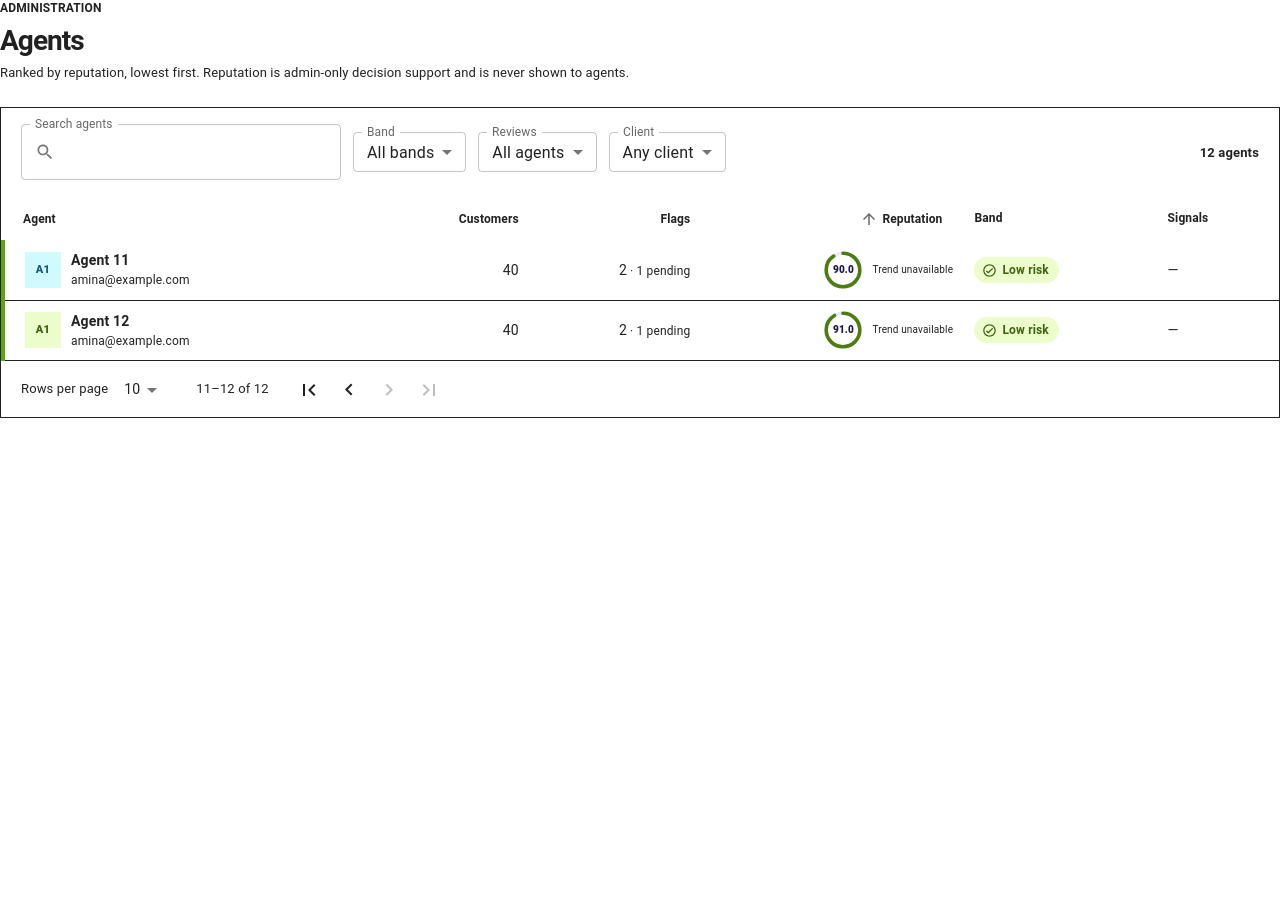
Test: agents ranking › pages through agents and keeps the page and size in the URL
Expected: the text "Agent 11" is shown, [71,252,129,268]
Expected: the text "11–12 of 12" is shown, [196,380,269,399]
What coordinates should you click on to do the following:
click the button named "Go to first page"
I would click on:
 (309, 390)
Its box is [289,370,329,410].
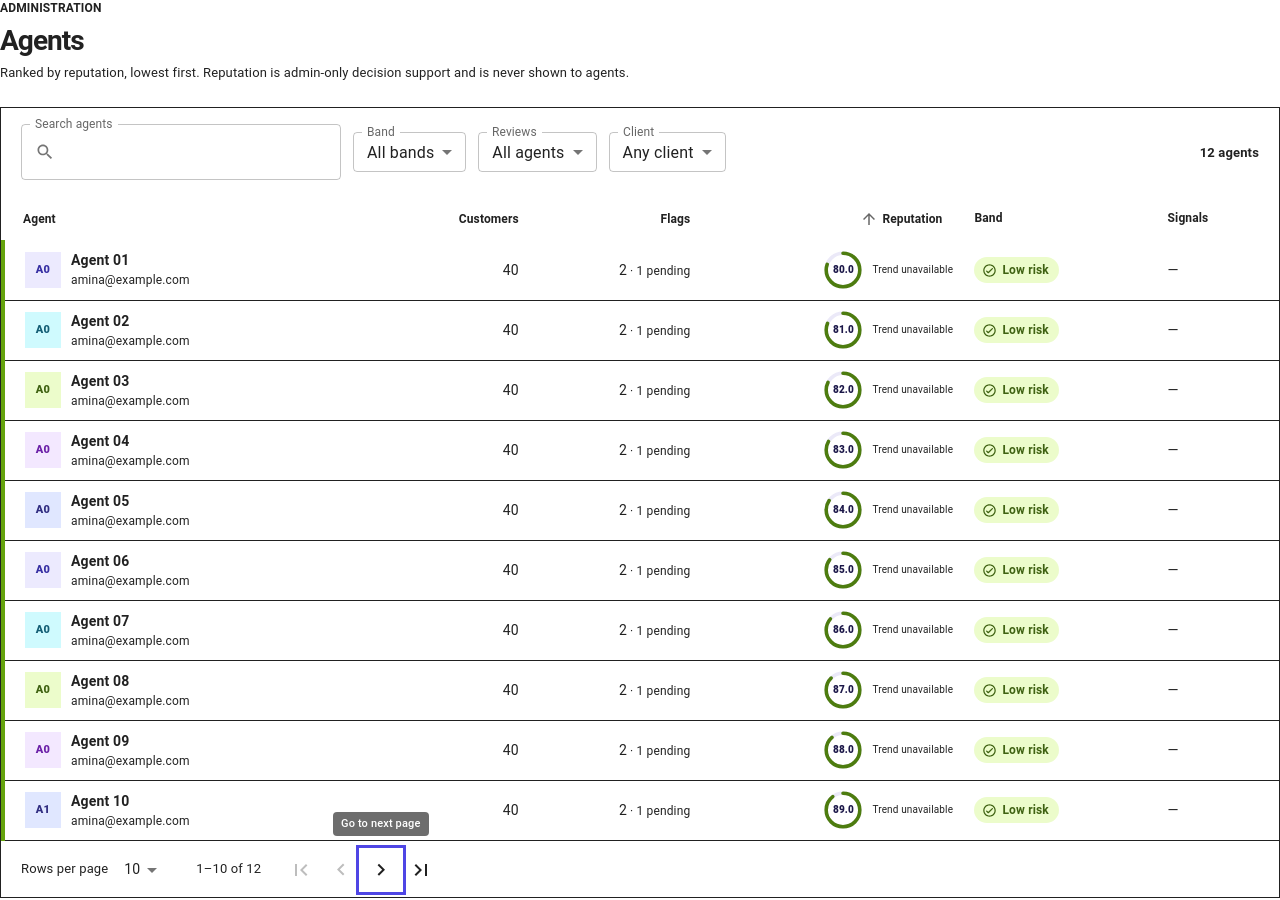
Expected: the text "1–10 of 12" is shown, [196,860,261,879]
